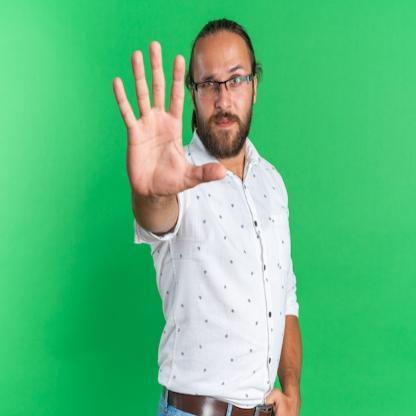stop: (110, 37, 228, 205)
